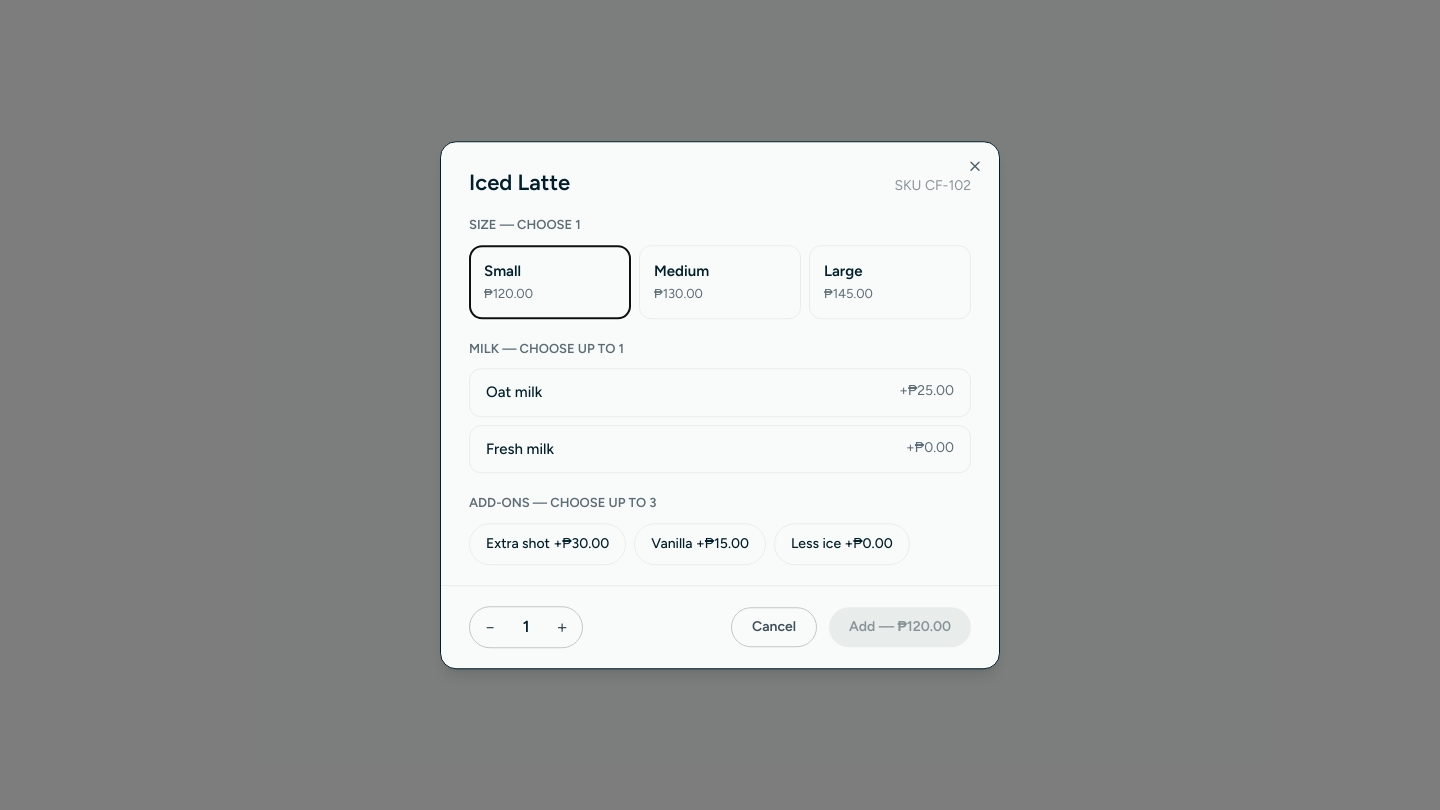
Test: the quantity stepper multiplies the Add amount
The image size is (1440, 810).
What coordinates should you click on to do the following:
click the button "Medium ₱130.00"
I would click on:
 (720, 282)
Its box is [639, 245, 801, 319].
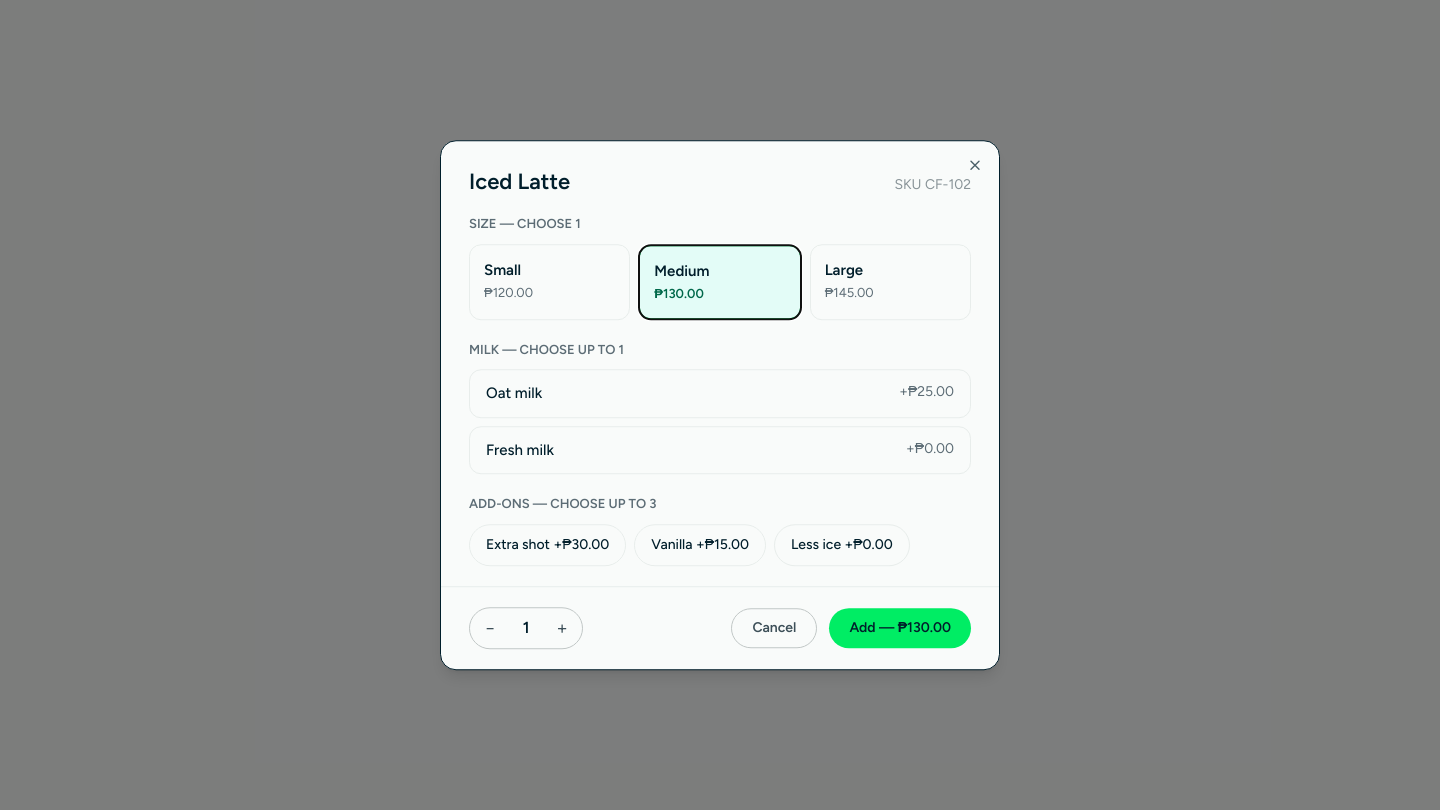
What coordinates should you click on to do the following:
click the button named "Increase quantity"
I would click on:
 (562, 628)
Its box is [542, 608, 582, 648].
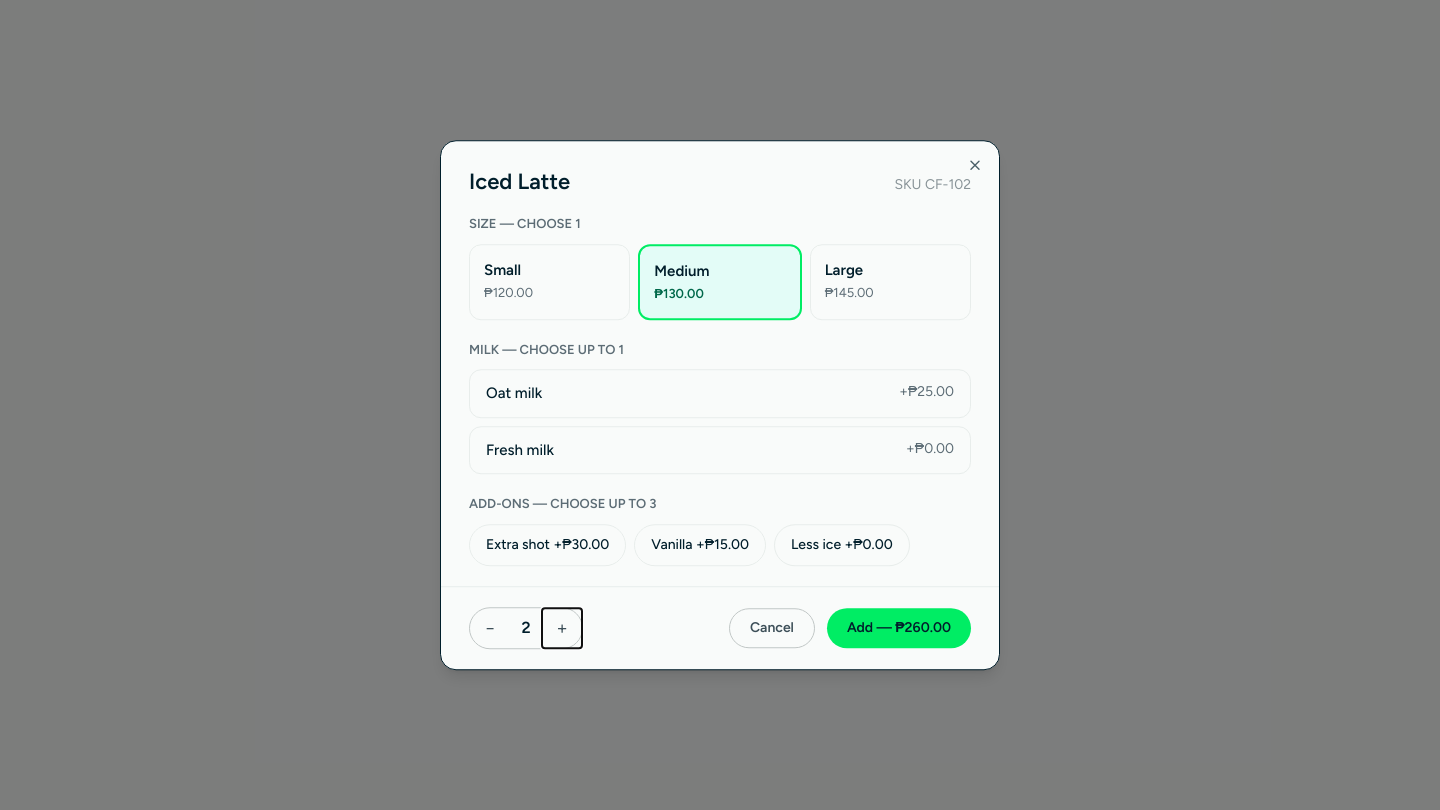
expect the button "Add — ₱260.00" is shown: met, box [827, 608, 971, 648]
